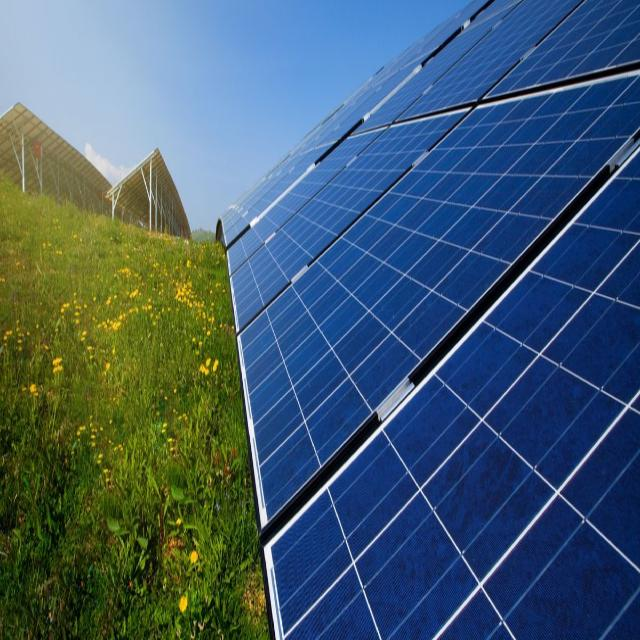clean-solar-panel: (218, 0, 640, 639)
